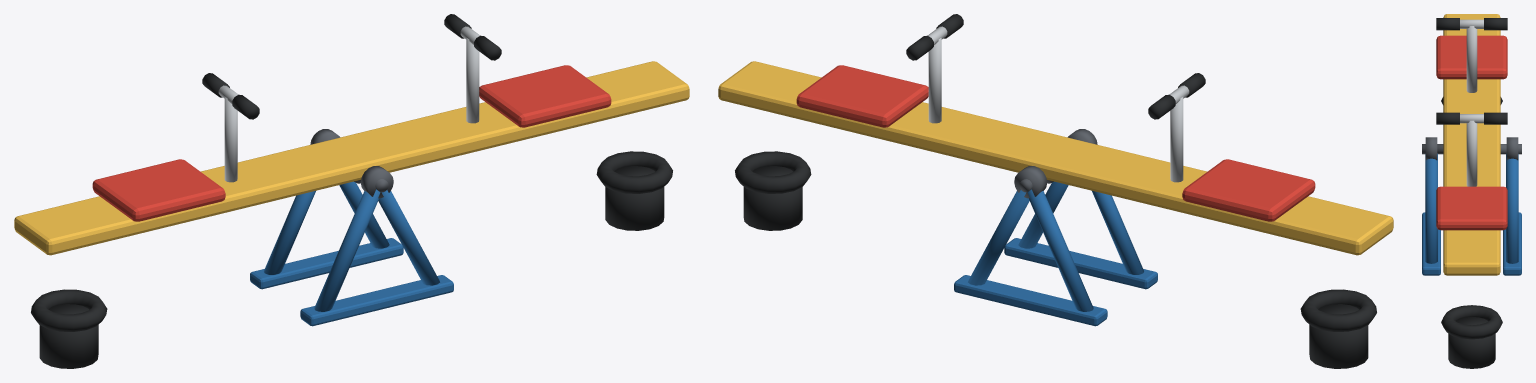
Rendered from seesaw.glb.
The picture shows the model from 3 angles, left to right: view 1: azimuth 30°, elevation 25°; view 2: azimuth 150°, elevation 25°; view 3: azimuth 270°, elevation 25°; orthographic projection. The views are drawn at different scales.
Parts seen in each view (by area): view 1: plank, stand; view 2: plank, stand; view 3: plank, stand.
Part boxes in pixels (x1,y1,x2,y2): plank: (14, 14, 689, 255); stand: (31, 129, 672, 368); plank: (718, 14, 1393, 255); stand: (735, 129, 1376, 368); plank: (1436, 14, 1507, 275); stand: (1422, 97, 1521, 368).
Size of the model in its own units: 2.5 by 0.846 by 0.42.
